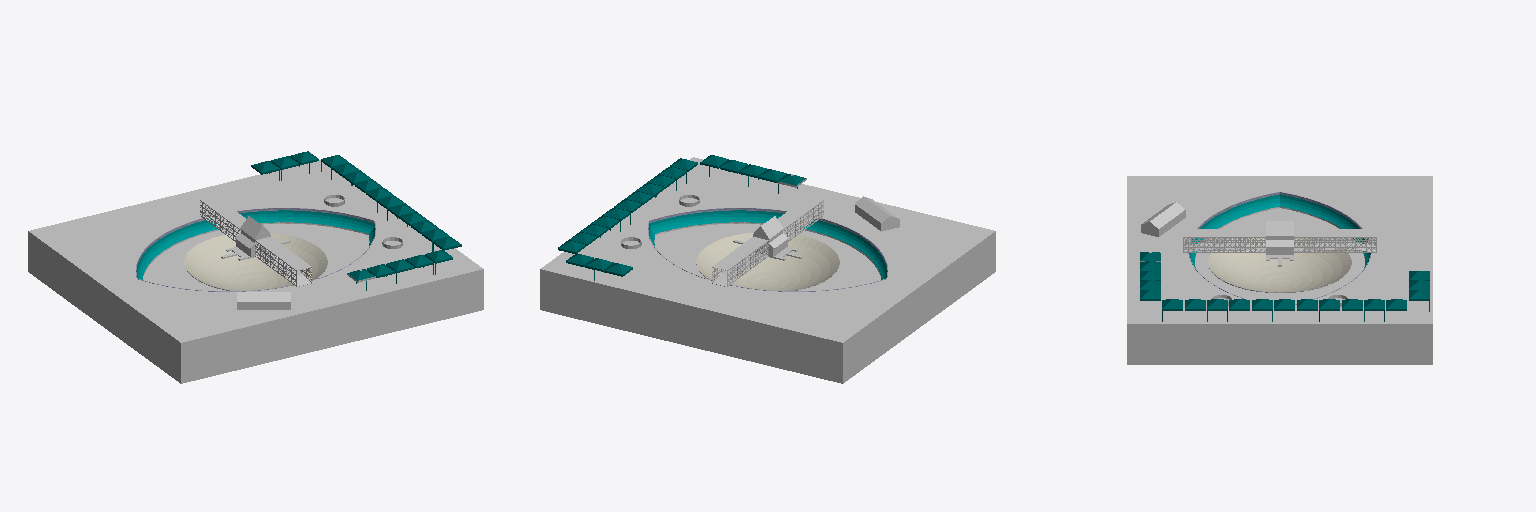
File: blender transdec.obj
3 renders of one model, left to right at view 1: azimuth 30°, elevation 25°; view 2: azimuth 150°, elevation 25°; view 3: azimuth 270°, elevation 25°, orthographic.
Parts seen in each view (by area): view 1: mesh_1, mesh_8, mesh_9, mesh_5, mesh_7, mesh_3, mesh_2; view 2: mesh_1, mesh_8, mesh_5, mesh_9, mesh_7, mesh_3, mesh_2; view 3: mesh_1, mesh_8, mesh_5, mesh_9, mesh_7, mesh_3, mesh_12, mesh_2.
Part boxes in pixels (x1,y1,x2,y2): mesh_1: (29, 160, 482, 342); mesh_8: (28, 196, 483, 383); mesh_9: (251, 151, 461, 290); mesh_5: (184, 233, 327, 290); mesh_7: (143, 224, 369, 290); mesh_3: (136, 210, 374, 279); mesh_2: (136, 208, 375, 291); mesh_1: (541, 157, 994, 342); mesh_8: (540, 196, 995, 383); mesh_5: (696, 233, 839, 290); mesh_9: (558, 155, 805, 280); mesh_7: (654, 224, 880, 290); mesh_3: (649, 210, 887, 279); mesh_2: (648, 208, 887, 291); mesh_1: (1127, 176, 1432, 323); mesh_8: (1127, 202, 1432, 364); mesh_5: (1208, 238, 1351, 291); mesh_9: (1140, 252, 1429, 321); mesh_7: (1195, 208, 1364, 305); mesh_3: (1189, 194, 1370, 267); mesh_12: (1184, 243, 1375, 251); mesh_2: (1188, 192, 1371, 306).
Bounding box in the file's own units: 117 × 25.89 × 102.